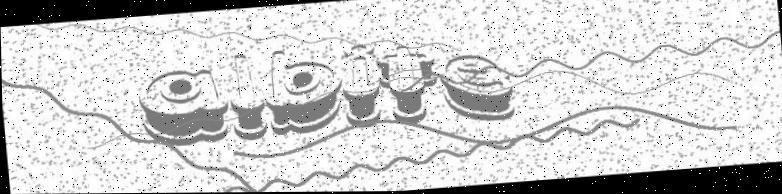a: (135, 66, 231, 149)
b: (259, 46, 345, 140)
e: (438, 51, 517, 126)
i: (338, 44, 384, 130)
l: (224, 52, 269, 143)
t: (373, 42, 442, 128)
